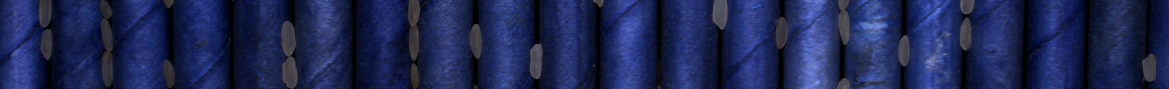broken_grain: (710, 1, 734, 34), (280, 57, 301, 89), (1140, 51, 1158, 85), (36, 1, 55, 27), (406, 1, 422, 28), (98, 1, 115, 19), (959, 1, 976, 15), (835, 77, 853, 89)
complete_grain: (280, 21, 298, 58), (469, 22, 485, 61), (836, 9, 852, 48), (408, 25, 424, 63), (529, 42, 544, 82), (958, 16, 974, 51), (774, 15, 789, 50), (897, 35, 912, 69), (100, 19, 115, 51), (40, 29, 54, 62), (162, 59, 177, 88)
yellow_grain: (101, 50, 115, 86), (409, 62, 421, 89)
